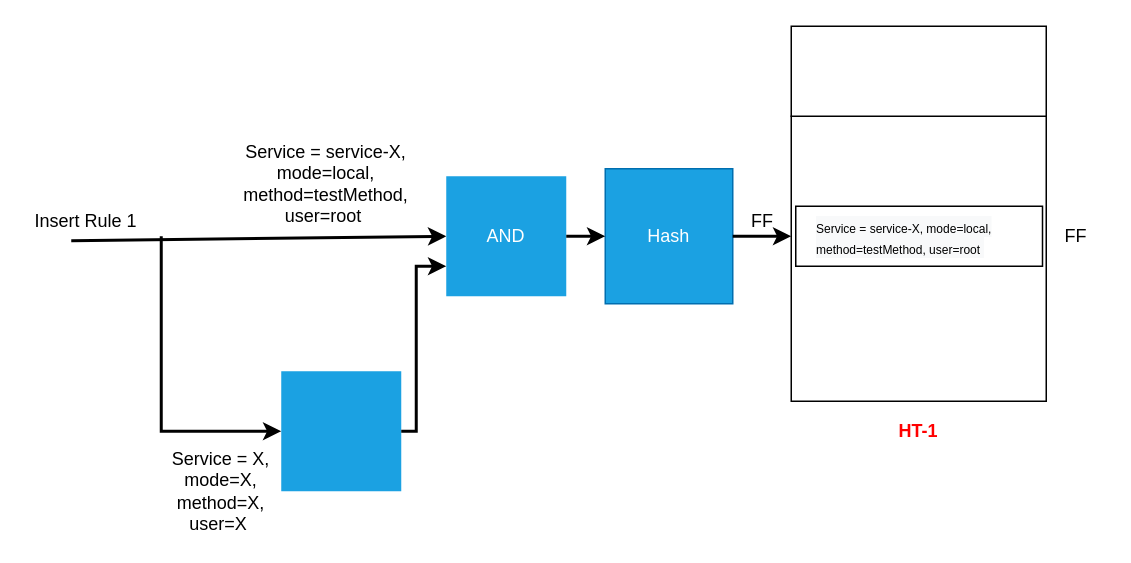
Image size: 1131x563. Some labels were removed from this diagram. The shapes that lost their labels are listed below. From the top down, each one's box as (x1, y1, x2, y2) in pixels, then its label:
(790, 25, 1046, 116): MASK : Service = X, mode=X, method=X, user=X
(280, 370, 400, 490): Create Mask
